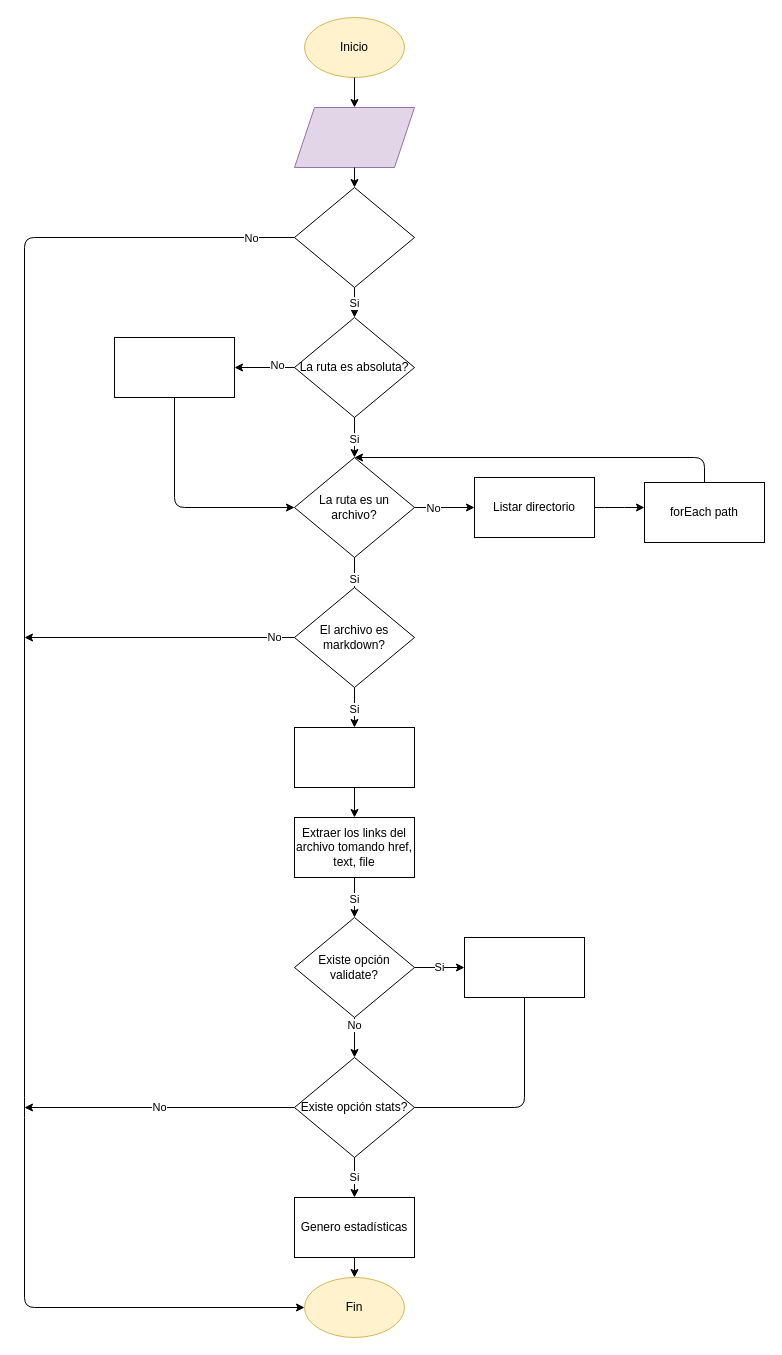
This 782x1355 diagram has some shape labels left out. The centre of each missing label's shape, as x and y in pixels:
"Convierto la ruta de relativa a absoluta" goes at point 174,367.
"Existe la ruta?" goes at point 354,237.
"Guardar la ruta" goes at point 354,757.
"Ruta" goes at point 354,137.
"Validar los links" goes at point 524,967.
